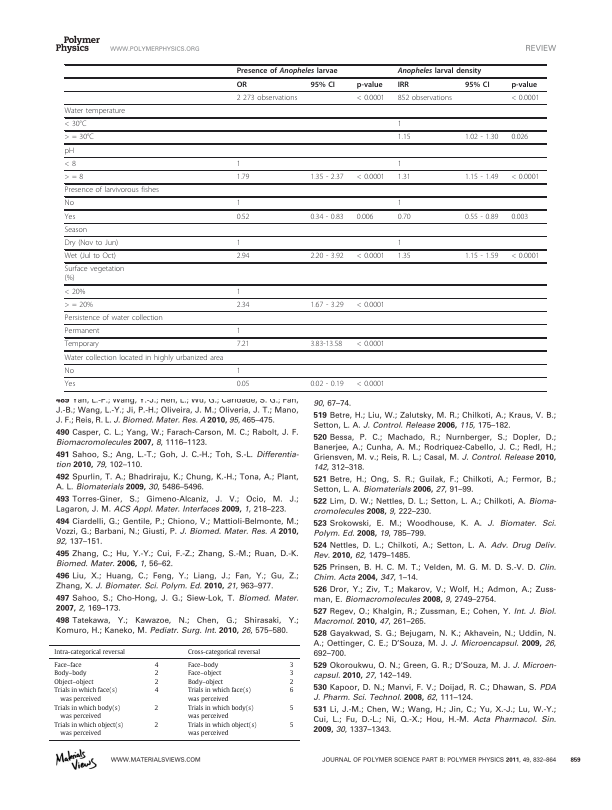borderless: (63, 63, 547, 391), (48, 643, 300, 740)
cell: (64, 353, 224, 363), (53, 721, 124, 738), (187, 721, 258, 738), (53, 703, 121, 720), (187, 703, 255, 720), (53, 686, 118, 703), (187, 686, 252, 703), (64, 265, 125, 283), (236, 67, 338, 76), (64, 314, 164, 323), (64, 186, 160, 195), (397, 67, 482, 76), (236, 93, 298, 103), (187, 648, 261, 656), (53, 648, 126, 656), (397, 93, 453, 103), (64, 107, 126, 116), (64, 239, 119, 248), (64, 252, 117, 261), (309, 212, 345, 222), (309, 300, 345, 310), (309, 379, 345, 389), (464, 212, 499, 222), (53, 678, 95, 686), (309, 173, 345, 182), (309, 252, 345, 261), (64, 327, 100, 336), (64, 340, 100, 349), (53, 669, 88, 678), (187, 669, 222, 678), (464, 133, 499, 142), (464, 173, 499, 182), (464, 252, 499, 261), (309, 340, 343, 349), (356, 93, 386, 103), (510, 93, 540, 103), (64, 300, 94, 310), (356, 300, 386, 310), (356, 379, 386, 389), (187, 678, 224, 686), (510, 80, 538, 90), (64, 133, 95, 142), (309, 80, 336, 90), (356, 80, 383, 90), (356, 173, 386, 182), (510, 173, 540, 182), (356, 252, 386, 261), (510, 252, 540, 261), (356, 340, 386, 349), (464, 80, 490, 90), (187, 661, 219, 669), (53, 661, 83, 669), (64, 225, 88, 235), (64, 287, 86, 297), (64, 120, 87, 129), (510, 212, 529, 222), (64, 173, 84, 182), (356, 212, 374, 222), (510, 133, 529, 142), (236, 212, 250, 222), (397, 212, 411, 222), (236, 300, 250, 310), (236, 379, 250, 389), (397, 80, 410, 90), (64, 159, 77, 169), (397, 133, 411, 142), (236, 173, 250, 182), (397, 173, 411, 182), (236, 252, 250, 261), (397, 252, 411, 261), (236, 340, 250, 349), (236, 80, 248, 90), (64, 212, 76, 222), (64, 379, 76, 389), (64, 146, 75, 156), (64, 366, 75, 376), (64, 199, 75, 208), (397, 159, 403, 169), (289, 669, 295, 678), (289, 686, 295, 695), (289, 703, 295, 712), (397, 120, 403, 129), (397, 199, 403, 208), (397, 239, 403, 248), (236, 159, 241, 169), (236, 287, 241, 297), (236, 366, 241, 376), (289, 661, 295, 669), (289, 678, 295, 686), (289, 721, 295, 729), (154, 669, 159, 678), (154, 686, 159, 695), (154, 703, 159, 712), (236, 199, 241, 208), (236, 239, 241, 248), (236, 327, 241, 336), (154, 661, 159, 669), (154, 678, 159, 686), (154, 721, 159, 729)
